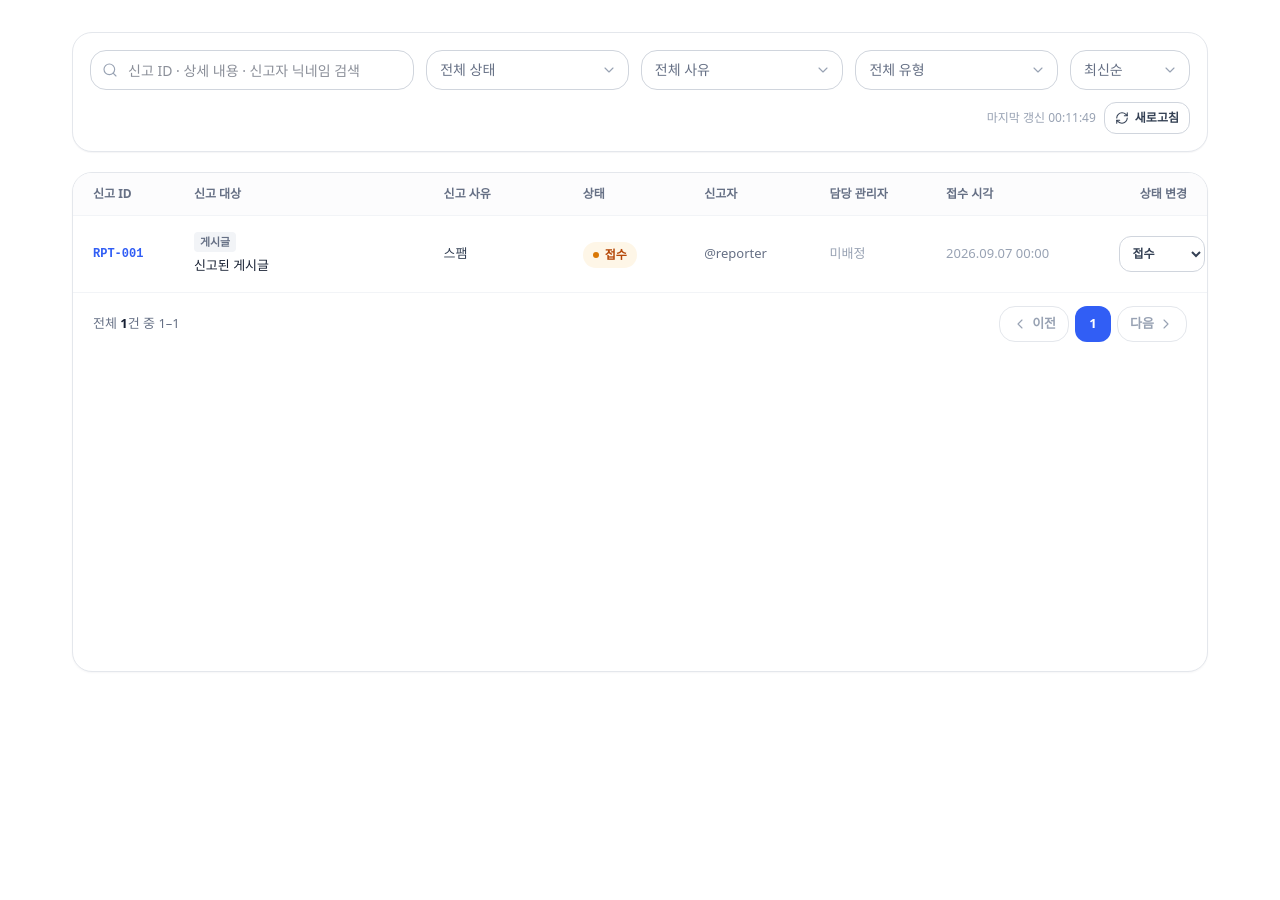
Test: AdminReportsManagement › preserves the row and does not refetch after PATCH failure
Expected: the link "RPT-001" is shown, [93, 247, 143, 261]
Select "처리 완료" in the dropdown named "RPT-001 상태 변경". click: (1162, 254)
box: [1119, 236, 1205, 272]
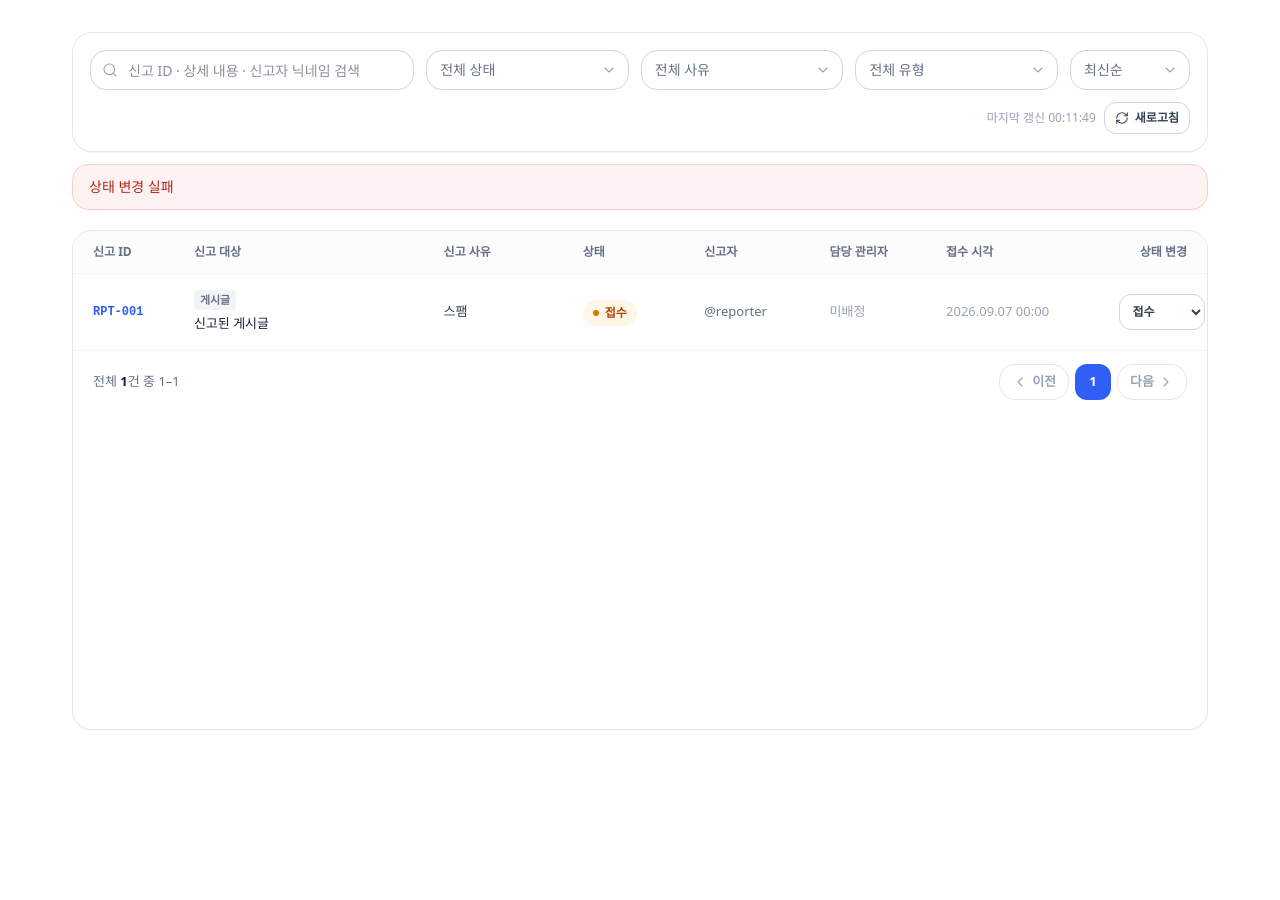
Expected: the link "RPT-001" is shown, [93, 305, 143, 319]
Expected: the message reads "상태 변경 실패", [89, 177, 174, 196]
